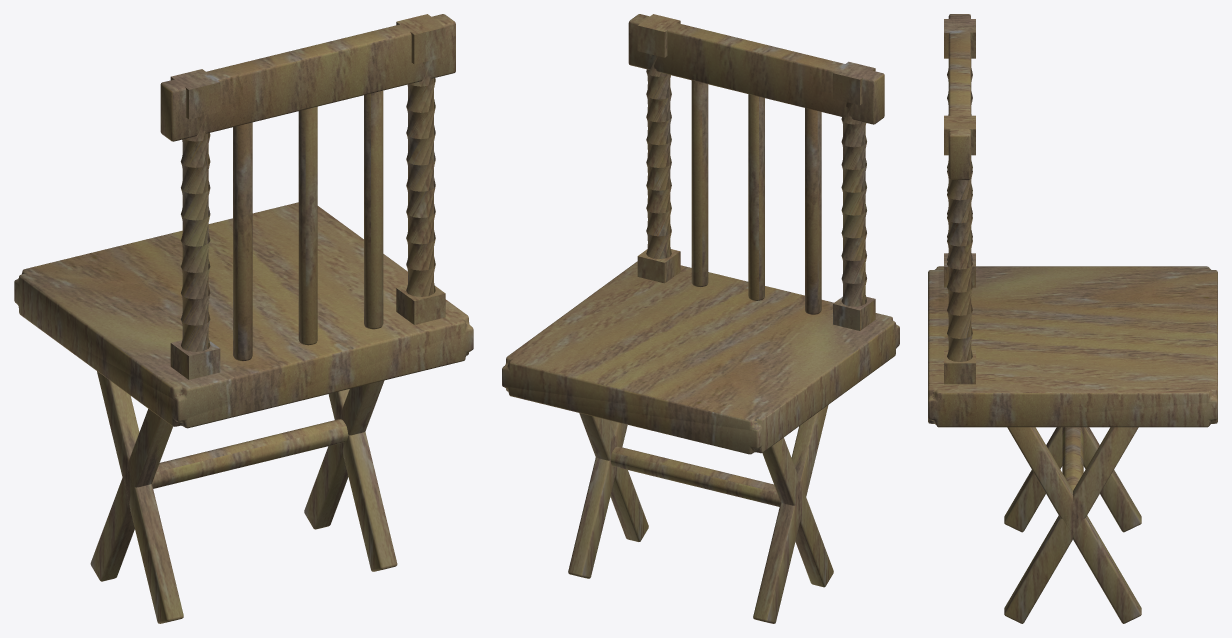
File: Antique_Chair_06.fbx
3 views of the same model, side by side, from view 1: azimuth 30°, elevation 25°; view 2: azimuth 150°, elevation 25°; view 3: azimuth 270°, elevation 25° (orthographic). The views are drawn at different scales.
Parts seen in each view (by area): view 1: Antique_Chair; view 2: Antique_Chair; view 3: Antique_Chair.
Part boxes in pixels (box(x1,y1,x2,y2)): Antique_Chair: box(14, 14, 473, 623); Antique_Chair: box(502, 14, 899, 623); Antique_Chair: box(928, 14, 1217, 623).
Size of the model in its own units: 0.54 by 0.9918 by 0.52.
Materials: 1 (1 with a texture image).
